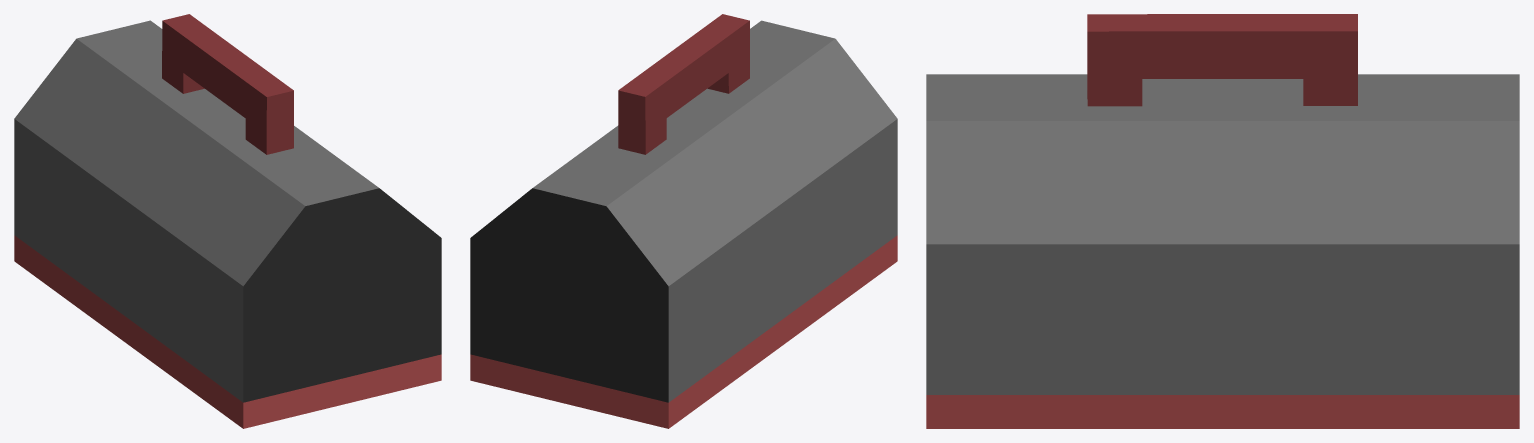
Rendered from repairkit.fbx.
3 views of the same model, side by side, from view 1: azimuth 30°, elevation 25°; view 2: azimuth 150°, elevation 25°; view 3: azimuth 270°, elevation 25° (orthographic). The views are drawn at different scales.
Parts seen in each view (by area): view 1: Model_0; view 2: Model_0; view 3: Model_0.
Boxes of the visible parts, x1,y1,x2,y2 form: Model_0: (14,14,441,428); Model_0: (470,14,897,428); Model_0: (926,14,1519,428).
Bounding box in the file's own units: 50 × 63.95 × 100.
